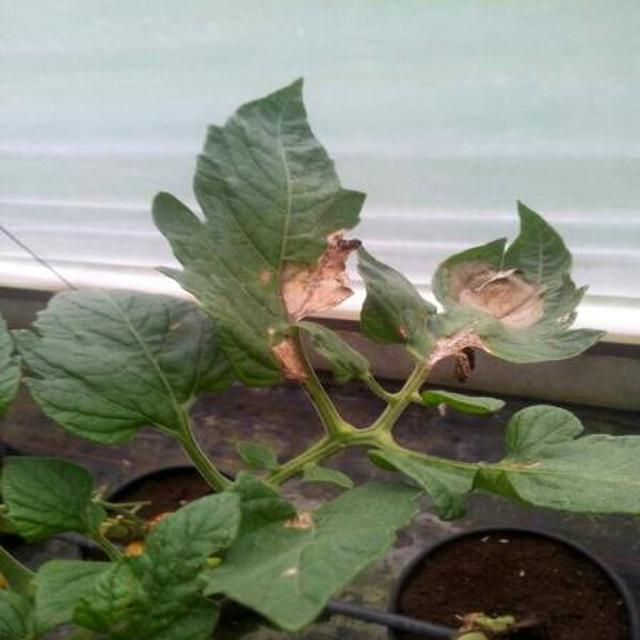Late Blight Leaf: (262, 242, 640, 437)
